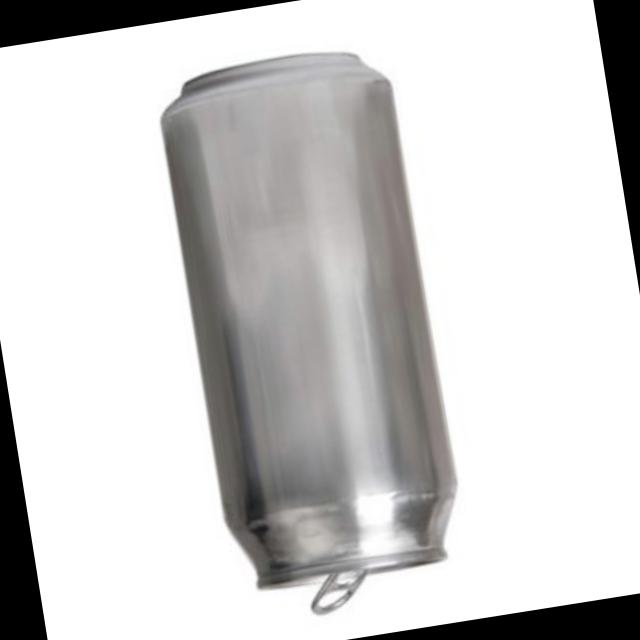metal: (159, 57, 452, 616)
